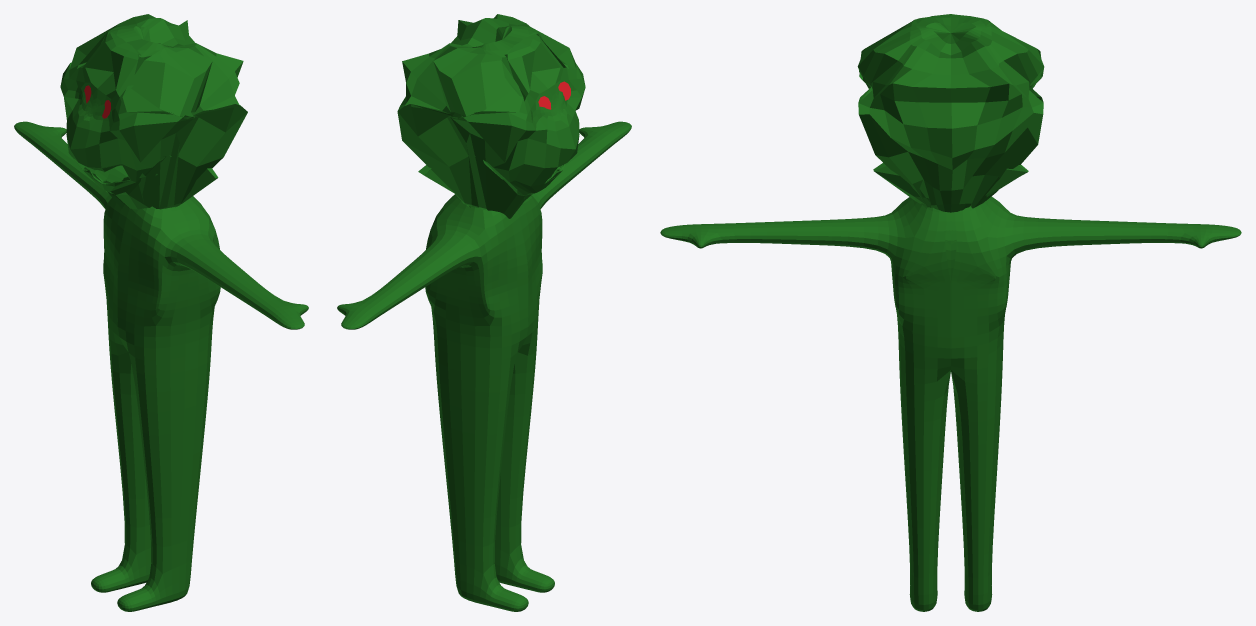
Rendered from Zombie.fbx.
3 views of the same model, side by side, from view 1: azimuth 30°, elevation 25°; view 2: azimuth 150°, elevation 25°; view 3: azimuth 270°, elevation 25° (orthographic). The views are drawn at different scales.
Parts seen in each view (by area): view 1: Body, Head.202; view 2: Body, Head.202; view 3: Body, Head.202.
Boxes of the visible parts, x1,y1,x2,y2 form: Body: (14,121,308,611); Head.202: (60,14,247,209); Body: (337,121,631,611); Head.202: (397,14,585,218); Body: (660,196,1241,611); Head.202: (857,14,1044,212).
Bounding box in the file's own units: 69.27 × 246 × 224.
